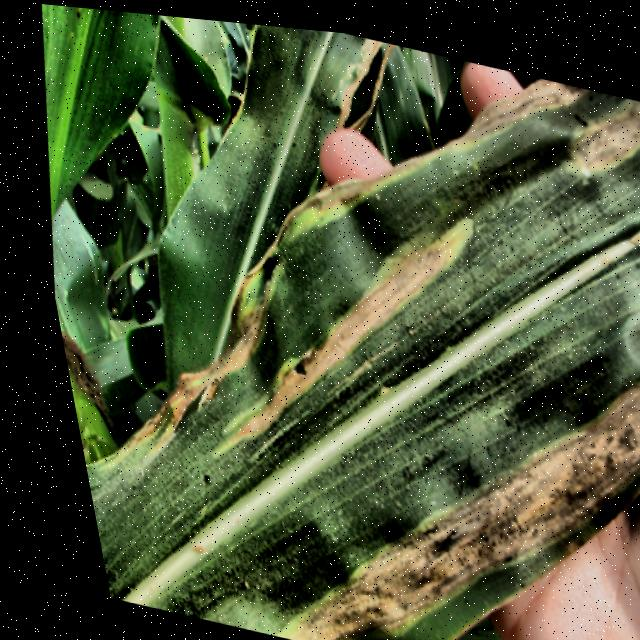blight: (85, 8, 640, 640)
